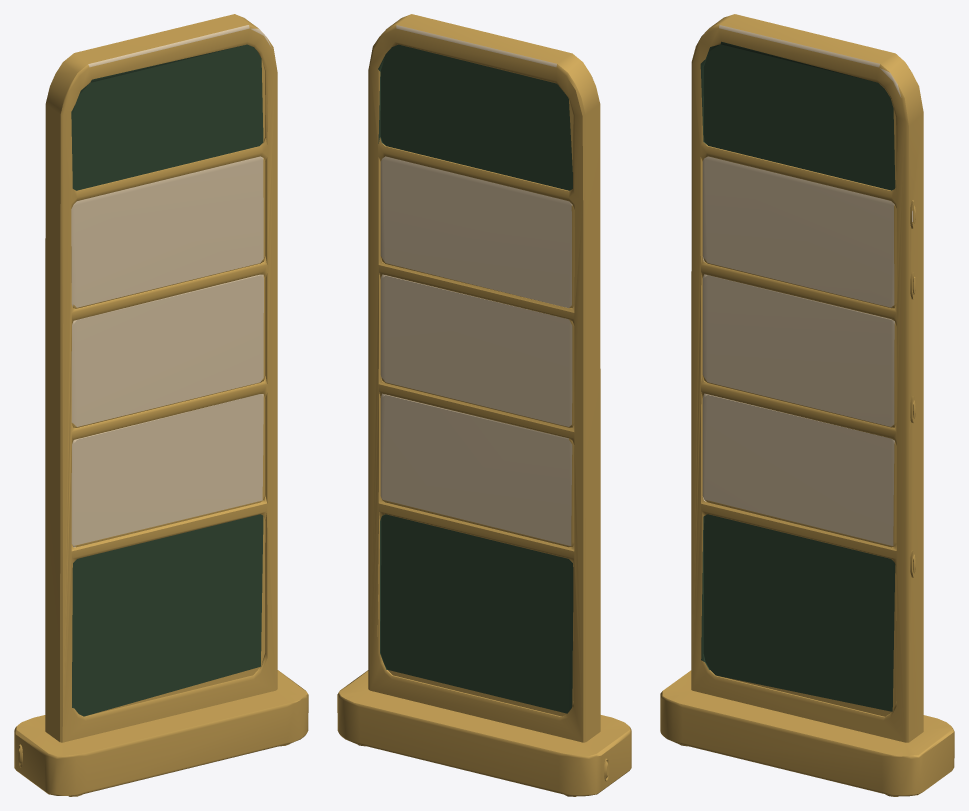
Rendered from GJH_NEW_sign_directory.glb.
3 views of the same model, side by side, from view 1: azimuth 30°, elevation 25°; view 2: azimuth 150°, elevation 25°; view 3: azimuth 330°, elevation 25° (orthographic).
Visible parts, largest first — view 1: GJH_NEW_sign_directory; view 2: GJH_NEW_sign_directory; view 3: GJH_NEW_sign_directory.
Part boxes in pixels (x1=…): GJH_NEW_sign_directory: x1=14, y1=14, x2=308, y2=796; GJH_NEW_sign_directory: x1=337, y1=14, x2=631, y2=796; GJH_NEW_sign_directory: x1=660, y1=14, x2=954, y2=796.
Bounding box in the file's own units: 0.75 × 1.95 × 0.25.
